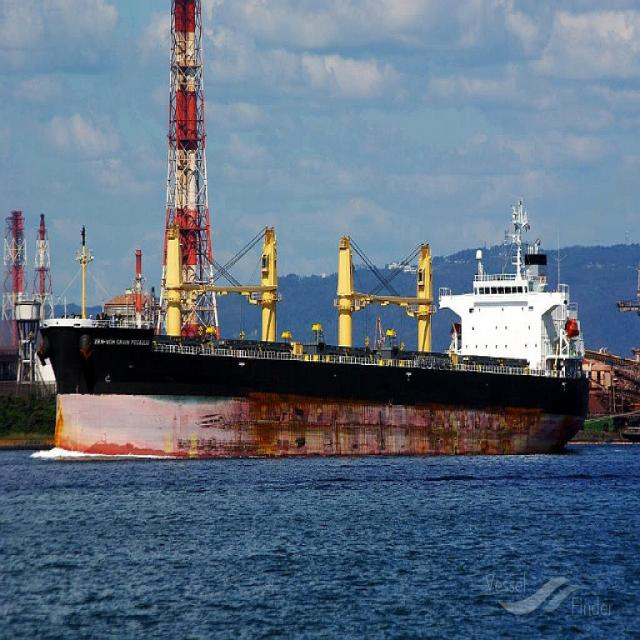Bulk Carrier: (39, 199, 590, 452)
